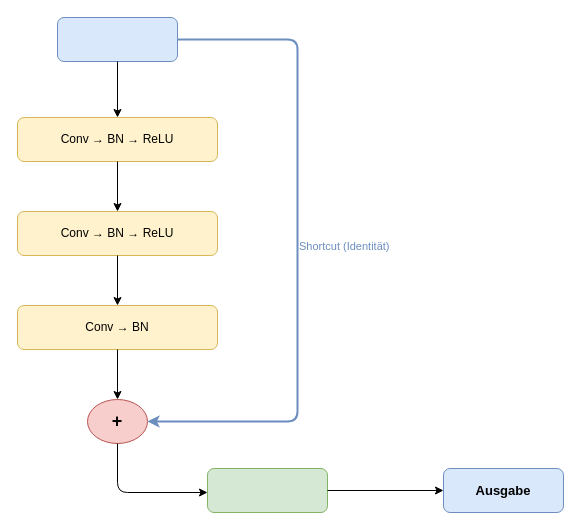
Some shapes in this 581 by 530 pixel diagram are drawn without their labels. Each missing label, with the centre of its shape:
"Eingabe" belongs at (x=117, y=39).
"ReLU" belongs at (x=267, y=490).
